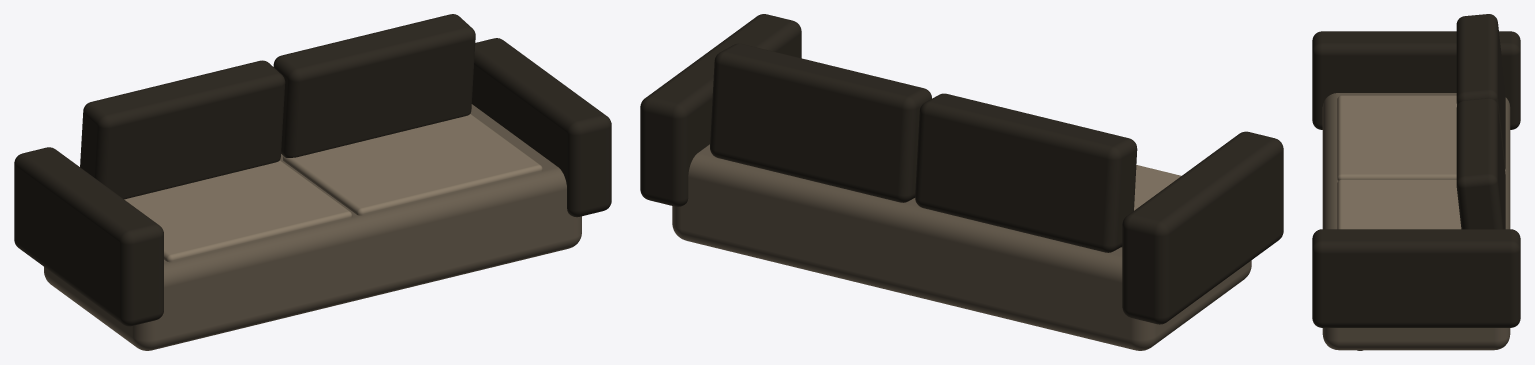
The model's file is translate-to-en-mr-310.glb.
The picture shows the model from 3 angles, left to right: view 1: azimuth 30°, elevation 25°; view 2: azimuth 150°, elevation 25°; view 3: azimuth 270°, elevation 25°; orthographic projection. The views are drawn at different scales.
Parts seen in each view (by area): view 1: seat-base, back-cushion-1, back-cushion-2, arm-left, seat-cushion-2, arm-right, seat-cushion-1; view 2: seat-base, back-cushion-1, back-cushion-2, arm-left, arm-right, seat-cushion-1; view 3: arm-right, arm-left, seat-cushion-1, seat-base, seat-cushion-2, back-cushion-2, back-cushion-1.
Boxes of the visible parts, left/top/right/bottom form: seat-base: left=44, top=104, right=581, bottom=350; back-cushion-1: left=80, top=60, right=285, bottom=199; back-cushion-2: left=273, top=14, right=475, bottom=157; arm-left: left=14, top=147, right=163, bottom=326; seat-cushion-2: left=283, top=114, right=542, bottom=215; arm-right: left=472, top=38, right=611, bottom=217; seat-cushion-1: left=124, top=160, right=352, bottom=262; seat-base: left=672, top=144, right=1251, bottom=350; back-cushion-1: left=915, top=93, right=1137, bottom=252; back-cushion-2: left=710, top=43, right=931, bottom=202; arm-left: left=1122, top=131, right=1283, bottom=324; arm-right: left=640, top=14, right=801, bottom=206; seat-cushion-1: left=1121, top=165, right=1181, bottom=247; arm-right: left=1312, top=229, right=1520, bottom=327; arm-left: left=1312, top=31, right=1520, bottom=129; seat-cushion-1: left=1337, top=95, right=1456, bottom=180; seat-base: left=1322, top=93, right=1510, bottom=350; seat-cushion-2: left=1337, top=179, right=1461, bottom=229; back-cushion-2: left=1456, top=98, right=1505, bottom=229; back-cushion-1: left=1456, top=14, right=1505, bottom=169.
Bounding box in the file's own units: 2.27 × 0.8189 × 0.92.
